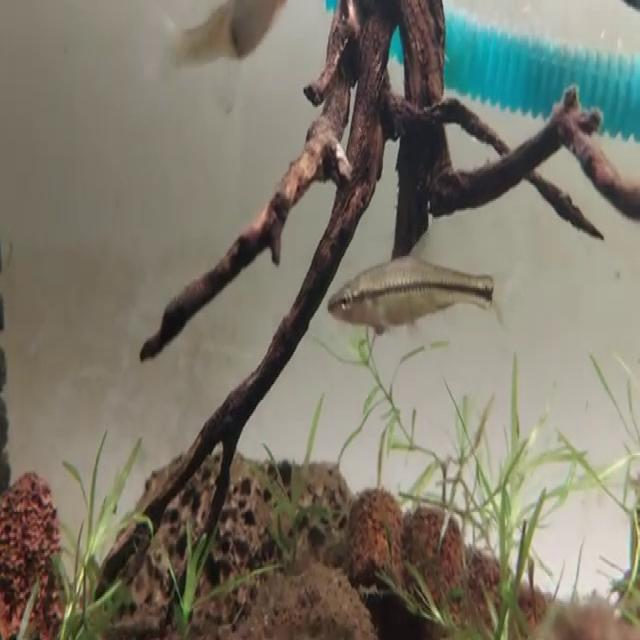Cakil Baligi: (328, 223, 509, 346)
